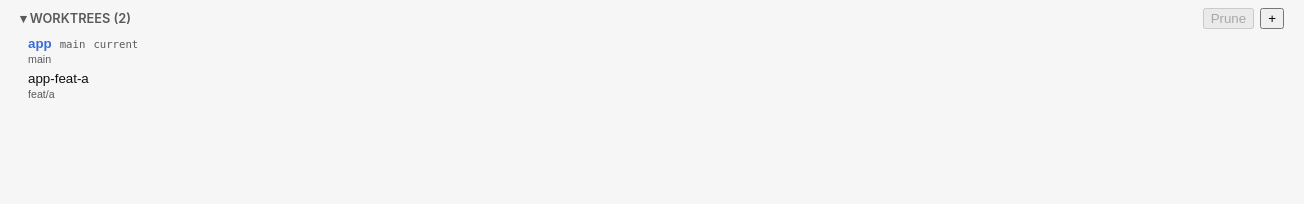
Test: WorktreesPanel open › should show an open failure inline
Expected: the list named "Worktree list" is shown, 12,33 -> 1292,111
Double-click the button "app-feat-a feat/a" at coordinates (58, 78), box 12,68 -> 1292,103
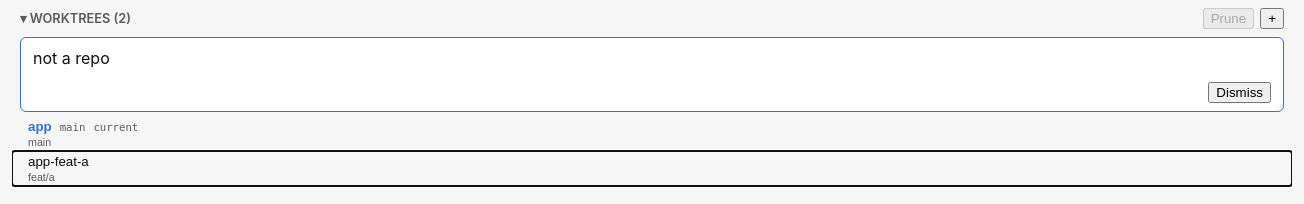
Expected: the message shows "not a repo", 33,48 -> 110,68
Click the button "Dismiss" at coordinates (1240, 92), box 1208,82 -> 1271,103
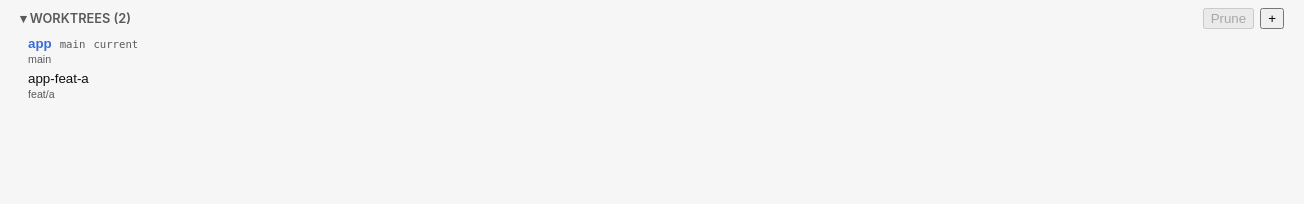
Expected: the message "not a repo Dismiss" is gone
